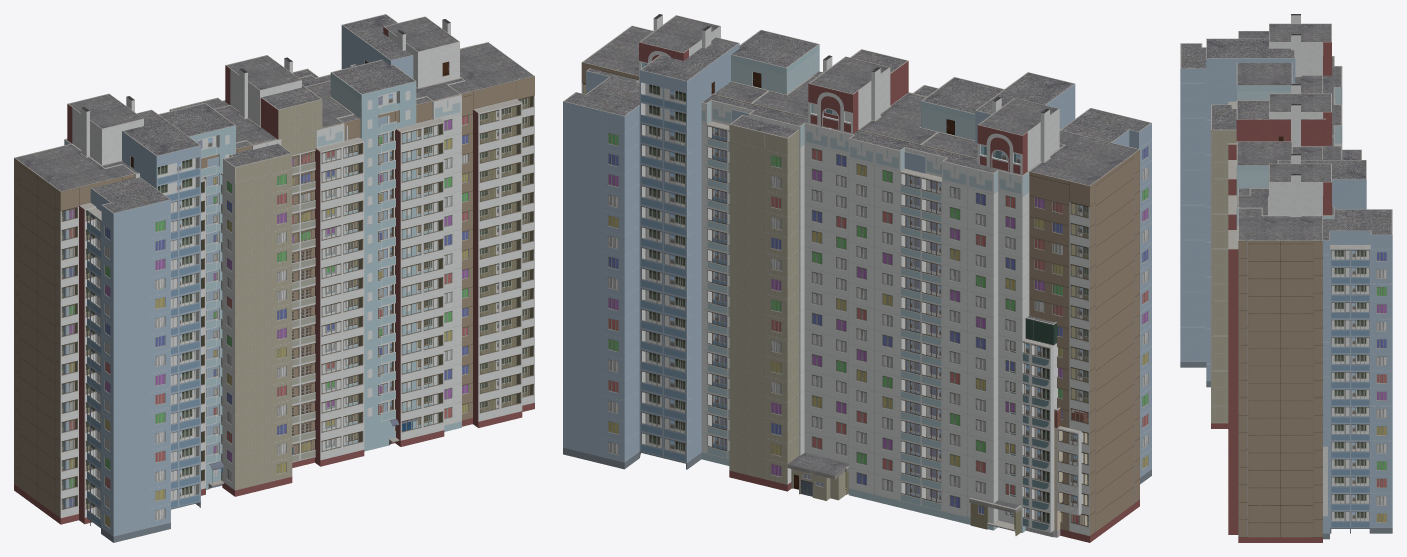
File: bld_tram.glb
The picture shows the model from 3 angles, left to right: view 1: azimuth 30°, elevation 25°; view 2: azimuth 150°, elevation 25°; view 3: azimuth 270°, elevation 25°; orthographic projection. The views are drawn at different scales.
Visible parts, largest first — view 1: tram_06, tram_02, tram_05, tram_03, tram_04; view 2: tram_03, tram_02, tram_06, tram_05, tram_04, tram_01; view 3: tram_06, tram_02, tram_05, tram_03, tram_01.
Part boxes in pixels (bbox=[...]): tram_06: bbox=[14, 16, 534, 524]; tram_02: bbox=[63, 14, 476, 542]; tram_05: bbox=[221, 68, 389, 496]; tram_03: bbox=[64, 59, 465, 489]; tram_04: bbox=[292, 250, 310, 454]; tram_03: bbox=[635, 30, 1065, 532]; tram_02: bbox=[563, 37, 1151, 497]; tram_06: bbox=[581, 14, 1139, 542]; tram_05: bbox=[729, 49, 937, 500]; tram_04: bbox=[1009, 316, 1057, 537]; tram_01: bbox=[1054, 407, 1087, 537]; tram_06: bbox=[1228, 14, 1331, 542]; tram_02: bbox=[1180, 38, 1392, 539]; tram_05: bbox=[1211, 100, 1361, 428]; tram_03: bbox=[1236, 56, 1342, 229]; tram_01: bbox=[1323, 446, 1327, 516].
Size of the model in its own units: 75.62 by 57.66 by 32.3.
Materials: 13 (13 with a texture image).
